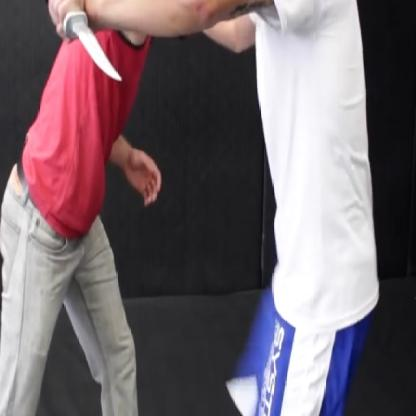knife: (37, 0, 130, 94)
